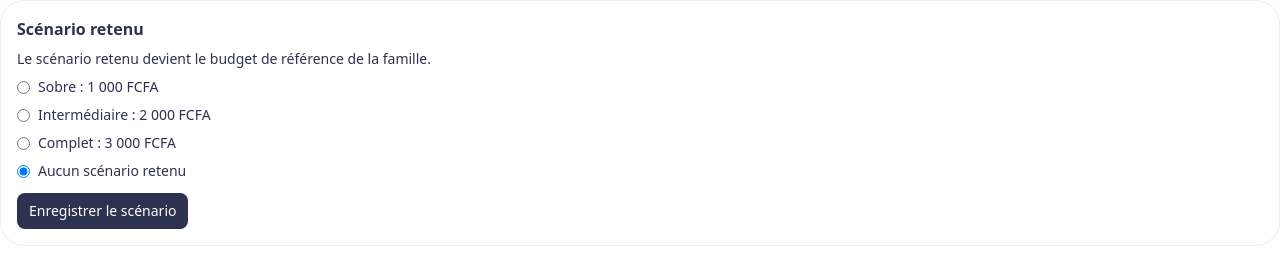
Test: ScenarioForm › sends the chosen scenario and says it is saved
Click the radio button labelled "Complet : 3 000 FCFA" at (24, 143), box left=17, top=136, right=30, bottom=150
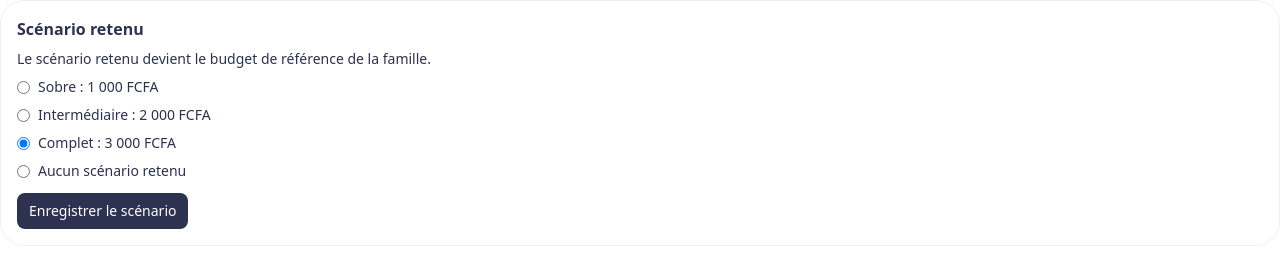
Click the button "Enregistrer le scénario" at (103, 211), box left=17, top=193, right=188, bottom=229
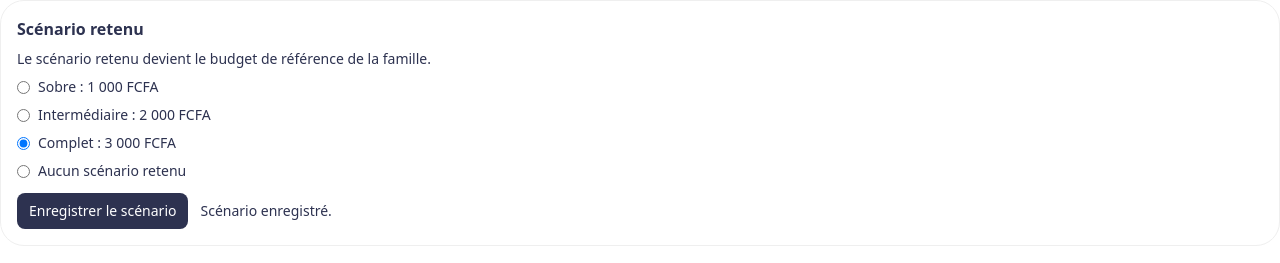
Now the message reads "Scénario enregistré.", box left=200, top=201, right=332, bottom=220
